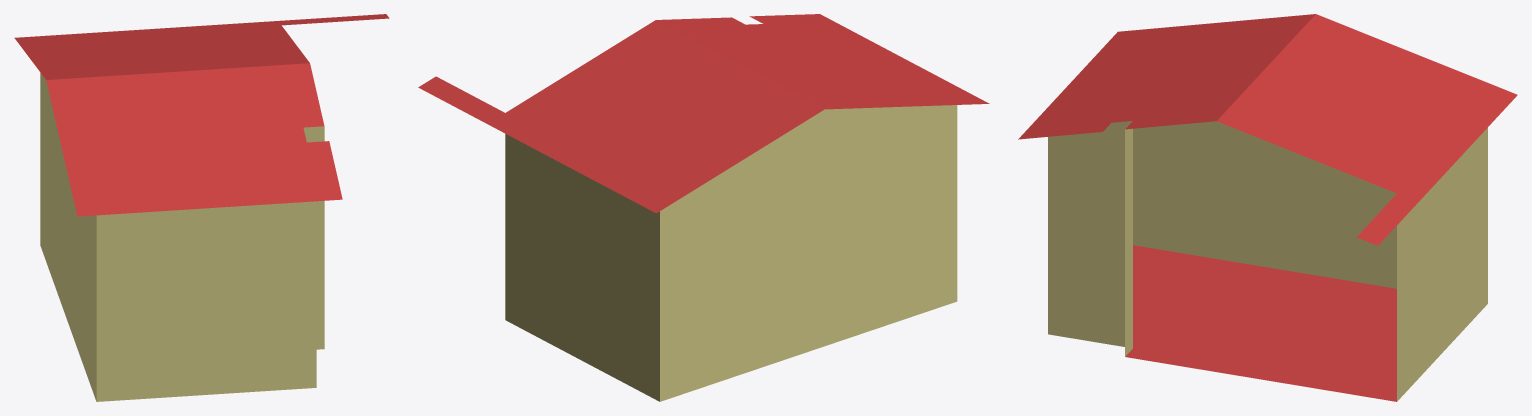
The picture shows the model from 3 angles, left to right: view 1: azimuth 30°, elevation 25°; view 2: azimuth 150°, elevation 25°; view 3: azimuth 270°, elevation 25°; orthographic projection. The views are drawn at different scales.
Size of the model in its own units: 16.61 by 16.14 by 8.94.
